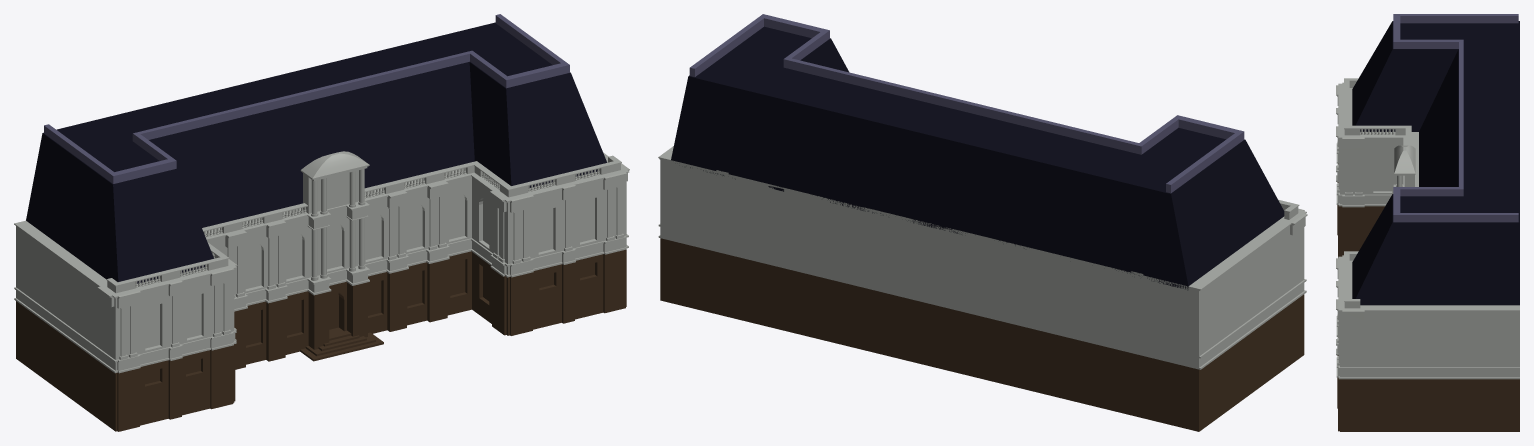
File: FaçadeParlement.fbx
The picture shows the model from 3 angles, left to right: view 1: azimuth 30°, elevation 25°; view 2: azimuth 150°, elevation 25°; view 3: azimuth 270°, elevation 25°; orthographic projection. The views are drawn at different scales.
Visible parts, largest first — view 1: Facade_Parlement; view 2: Facade_Parlement; view 3: Facade_Parlement.
Part boxes in pixels (bbox=[...]): Facade_Parlement: bbox=[14, 14, 629, 431]; Facade_Parlement: bbox=[658, 14, 1307, 431]; Facade_Parlement: bbox=[1336, 14, 1519, 431].
Bounding box in the file's own units: 2860 × 1194 × 970.
